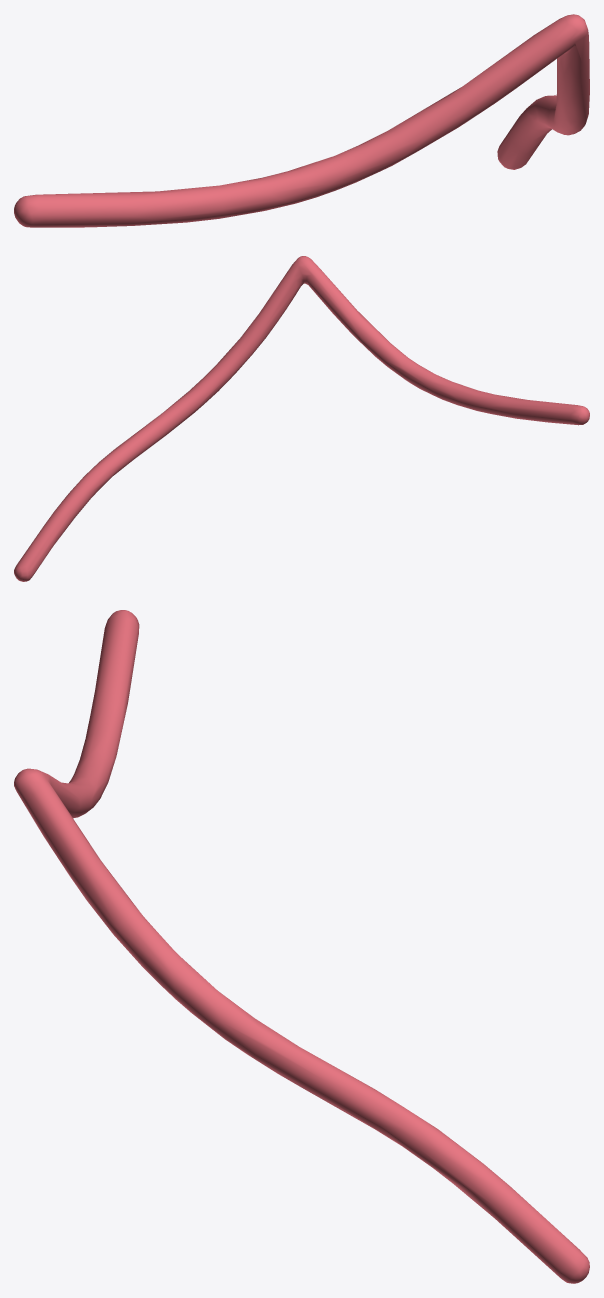
File: fma43944_fj2085.glb
3 renders of one model, top to bottom at view 1: azimuth 30°, elevation 25°; view 2: azimuth 150°, elevation 25°; view 3: azimuth 270°, elevation 25°, orthographic. The views are drawn at different scales.
Parts seen in each view (by area): view 1: FMA43944_FJ2085; view 2: FMA43944_FJ2085; view 3: FMA43944_FJ2085.
Boxes of the visible parts, x1,y1,x2,y2 form: FMA43944_FJ2085: [14, 14, 589, 227]; FMA43944_FJ2085: [14, 256, 589, 581]; FMA43944_FJ2085: [14, 610, 589, 1283].
Size of the model in its own units: 0.0448 by 0.0231 by 0.0294.
